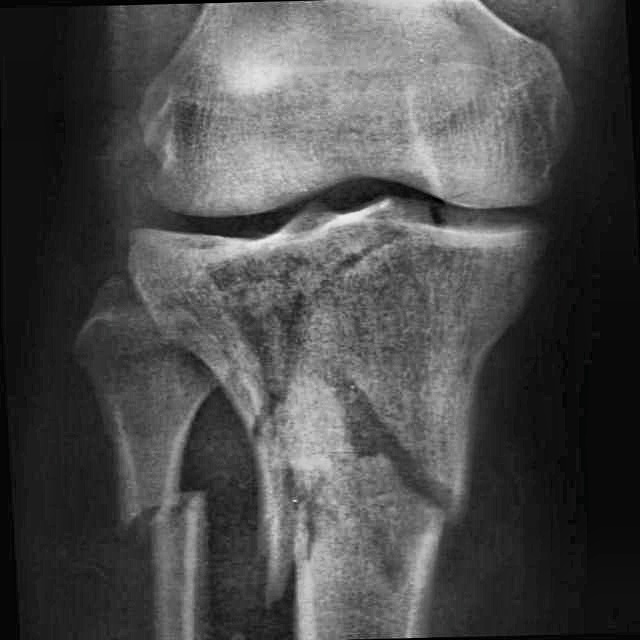Oblique Displaced: (244, 351, 479, 569)
Transverse Displaced: (92, 476, 221, 556)
